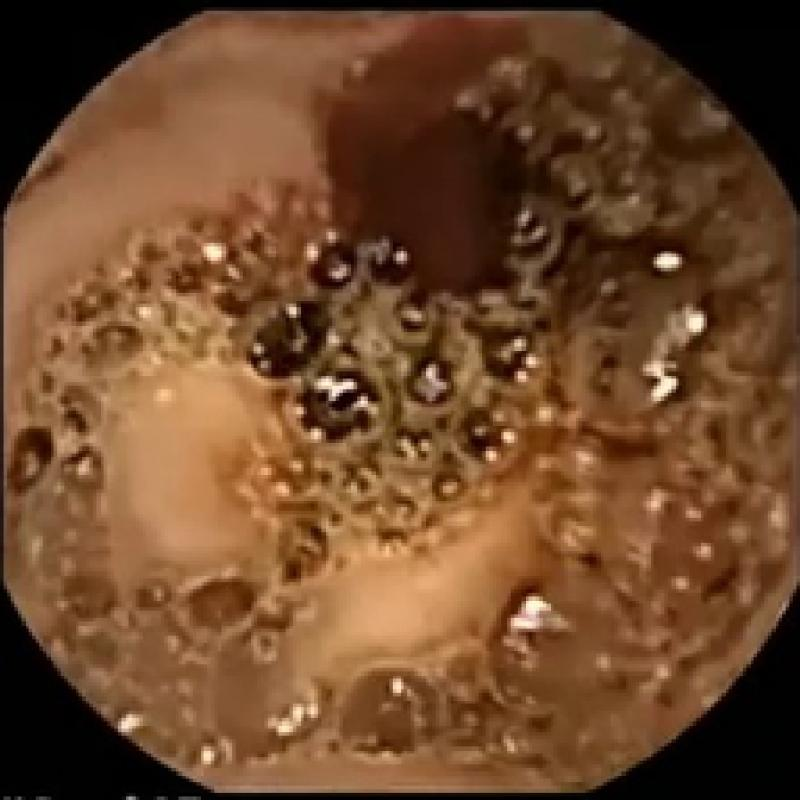bleeding: (261, 43, 554, 450)
